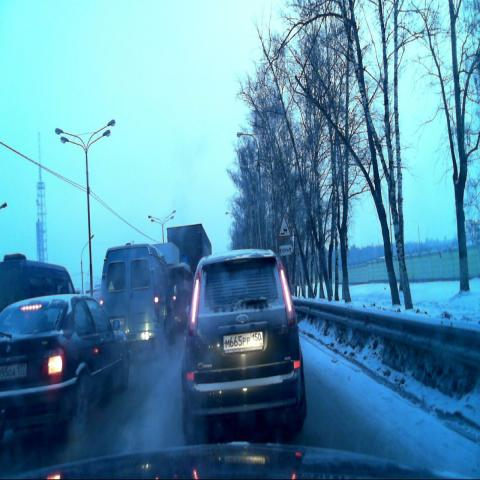1_19: (277, 217, 291, 241)
